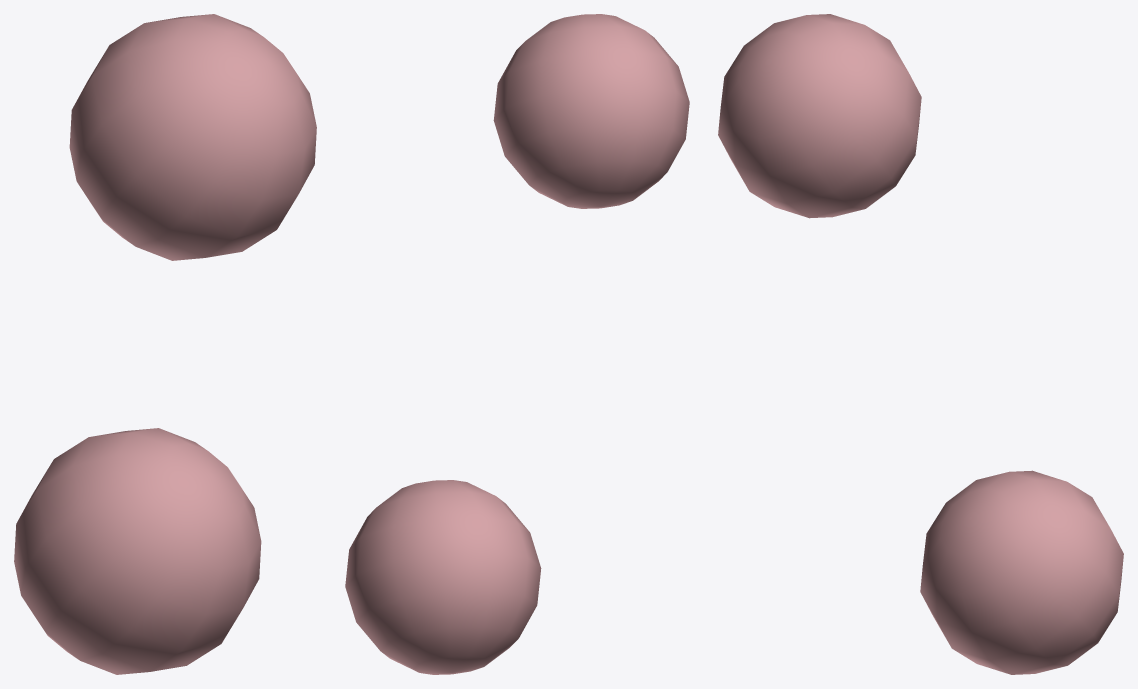
3 renders of one model, left to right at view 1: azimuth 30°, elevation 25°; view 2: azimuth 150°, elevation 25°; view 3: azimuth 270°, elevation 25°, orthographic. The views are drawn at different scales.
Parts seen in each view (by area): view 1: ZA_b6498f50d85d69ce; view 2: ZA_b6498f50d85d69ce; view 3: ZA_b6498f50d85d69ce.
Boxes of the visible parts, box(x1,y1,x2,y2) form: ZA_b6498f50d85d69ce: box(14, 14, 316, 674); ZA_b6498f50d85d69ce: box(345, 14, 689, 674); ZA_b6498f50d85d69ce: box(718, 14, 1123, 674).
Bounding box in the file's own units: 0.00339 × 0.00853 × 0.00509.
